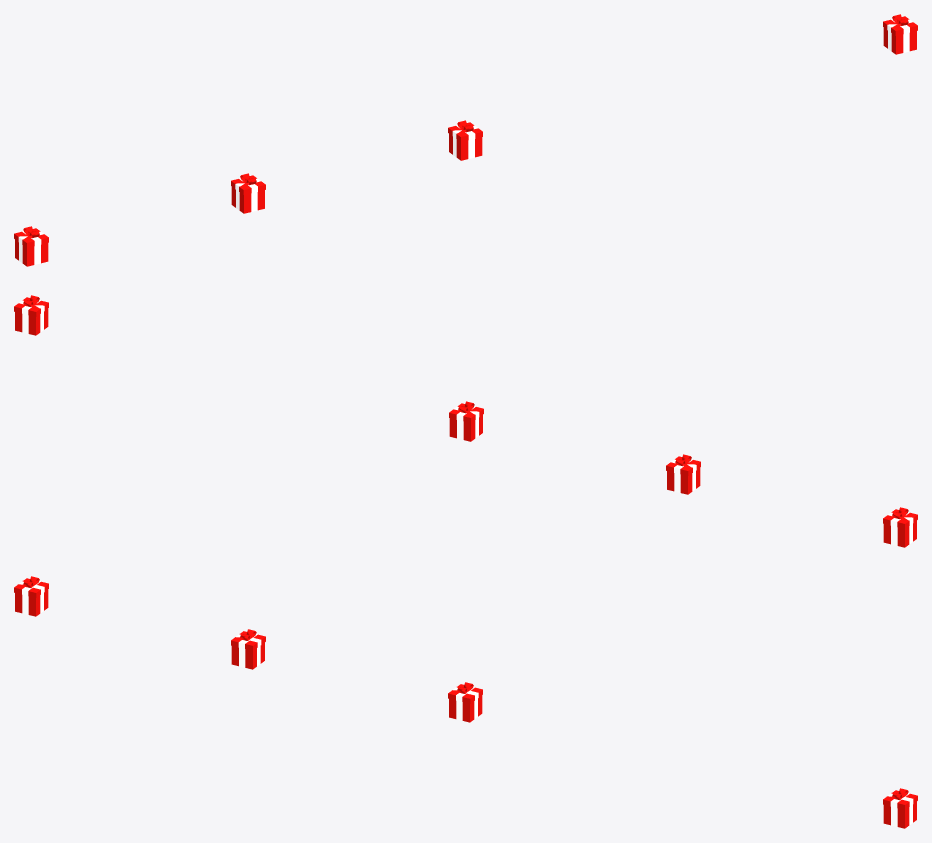
The model's file is MoonSquareGifts.glb.
3 renders of one model, top to bottom at view 1: azimuth 30°, elevation 25°; view 2: azimuth 150°, elevation 25°; view 3: azimuth 330°, elevation 25°, orthographic.
Parts seen in each view (by area): view 1: Cube.012, Cube.014, Cube.013, Cube.039; view 2: Cube.012, Cube.014, Cube.013, Cube.039; view 3: Cube.012, Cube.014, Cube.039, Cube.013.
Part boxes in pixels (x1,y1,x2,y2): Cube.012: (883, 14, 917, 54); Cube.014: (14, 226, 48, 266); Cube.013: (448, 120, 482, 160); Cube.039: (231, 173, 265, 213); Cube.012: (14, 295, 48, 335); Cube.014: (883, 507, 917, 547); Cube.013: (449, 401, 483, 441); Cube.039: (666, 454, 700, 494); Cube.012: (883, 788, 917, 828); Cube.014: (14, 576, 48, 616); Cube.039: (231, 629, 265, 669); Cube.013: (448, 682, 482, 722).
Bounding box in the file's own units: 24.63 × 0.796 × 0.617.
